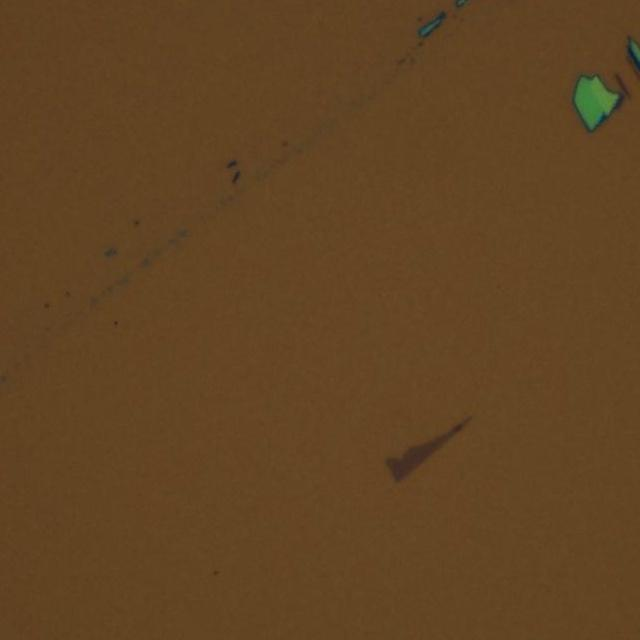monolayer-eWW4: (383, 410, 474, 486)
